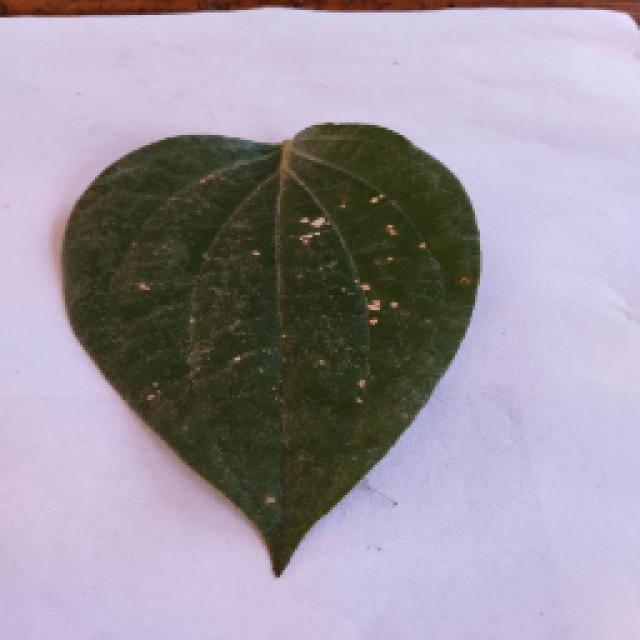pollu-disease: (60, 120, 478, 572)
